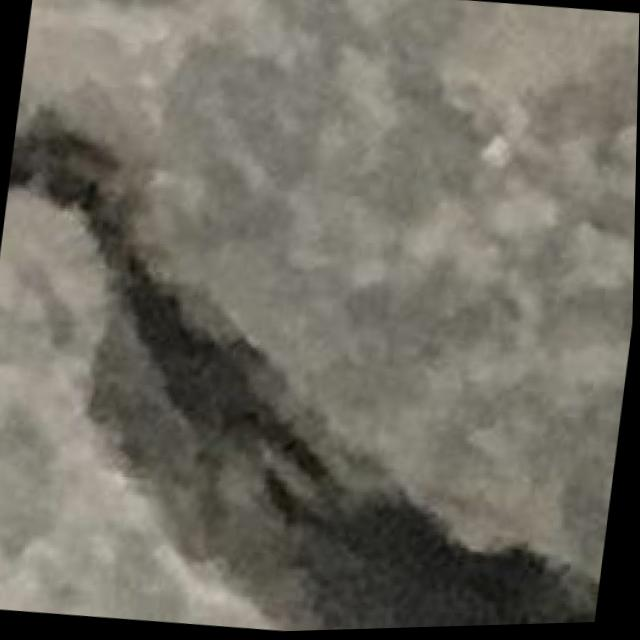Crack: (0, 59, 639, 640)
